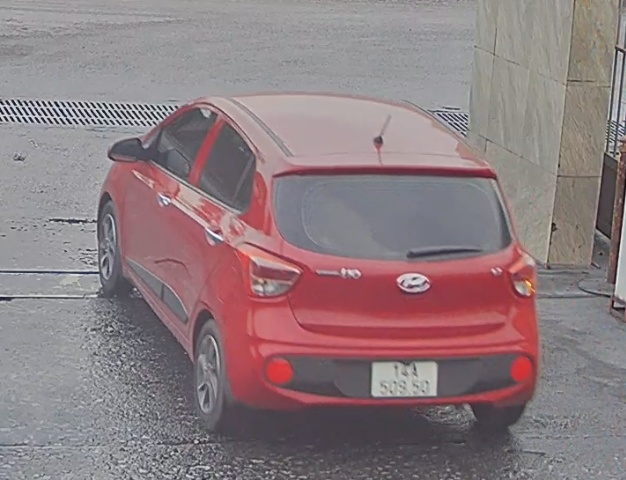vehicle plate: (371, 355, 436, 401)
